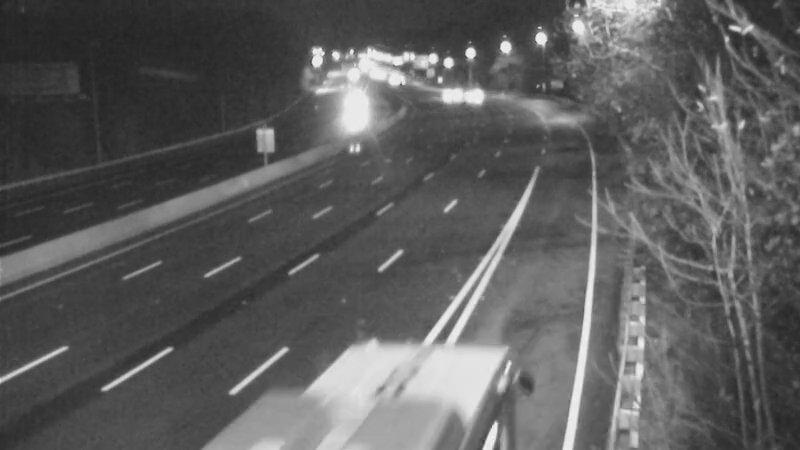vehicle: (427, 70, 477, 120), (447, 69, 497, 119), (328, 83, 378, 133)
